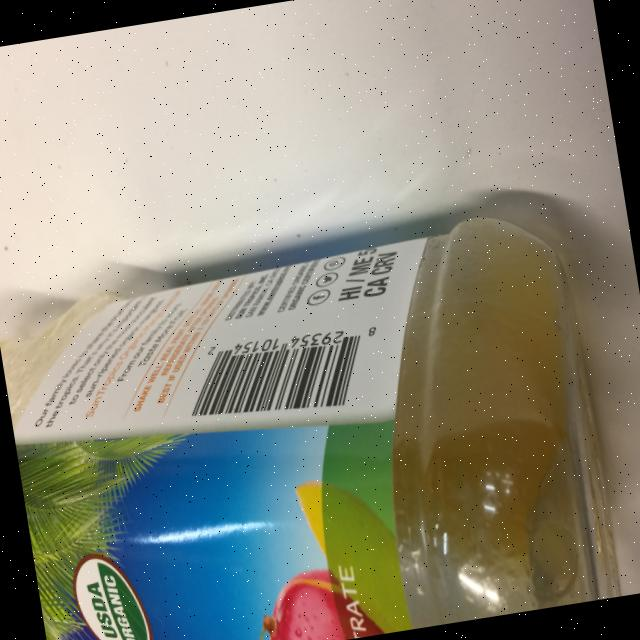plastic: (0, 204, 624, 640)
